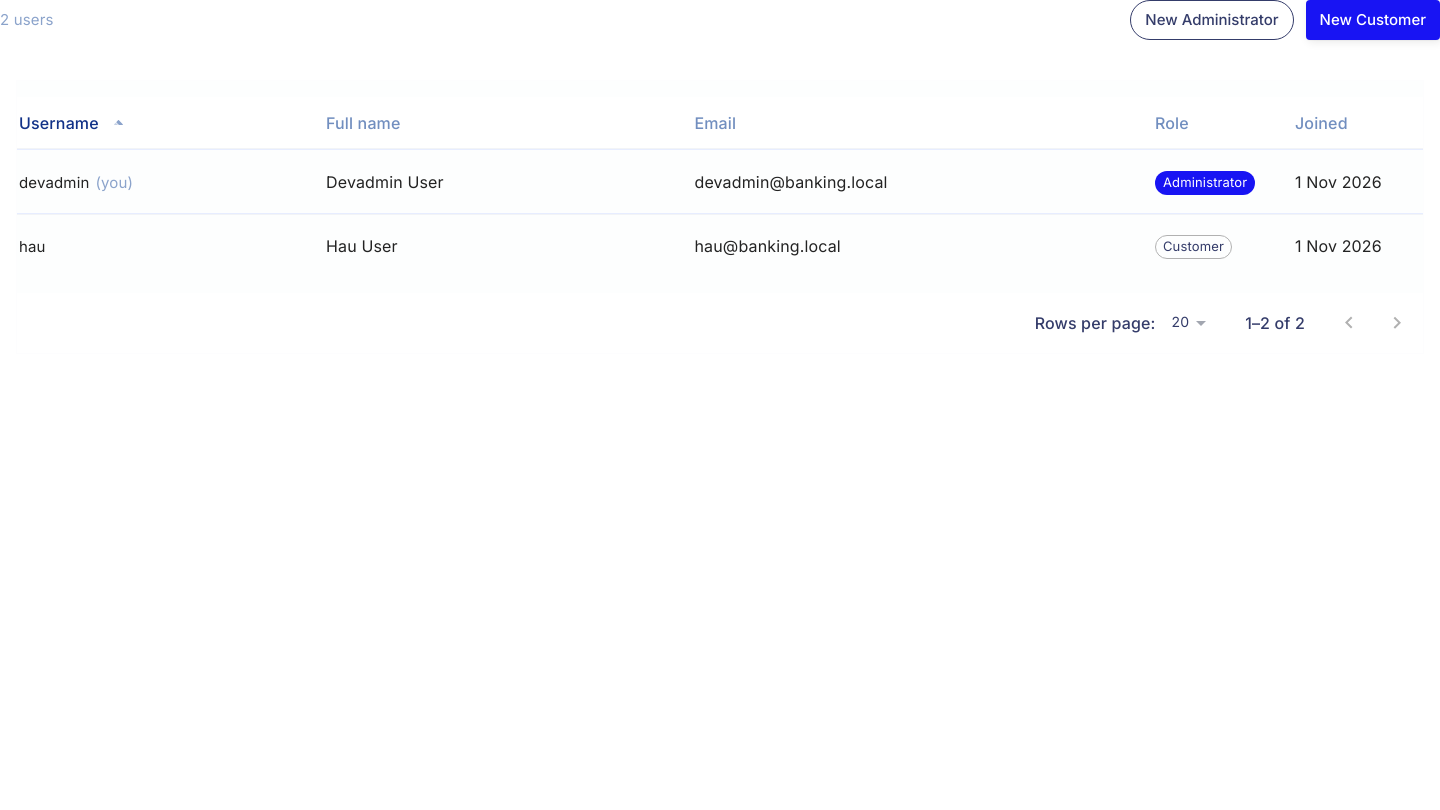
admin users page › makes a customer an administrator after confirming
Click the text "hau" at (32, 246), box left=19, top=237, right=46, bottom=256
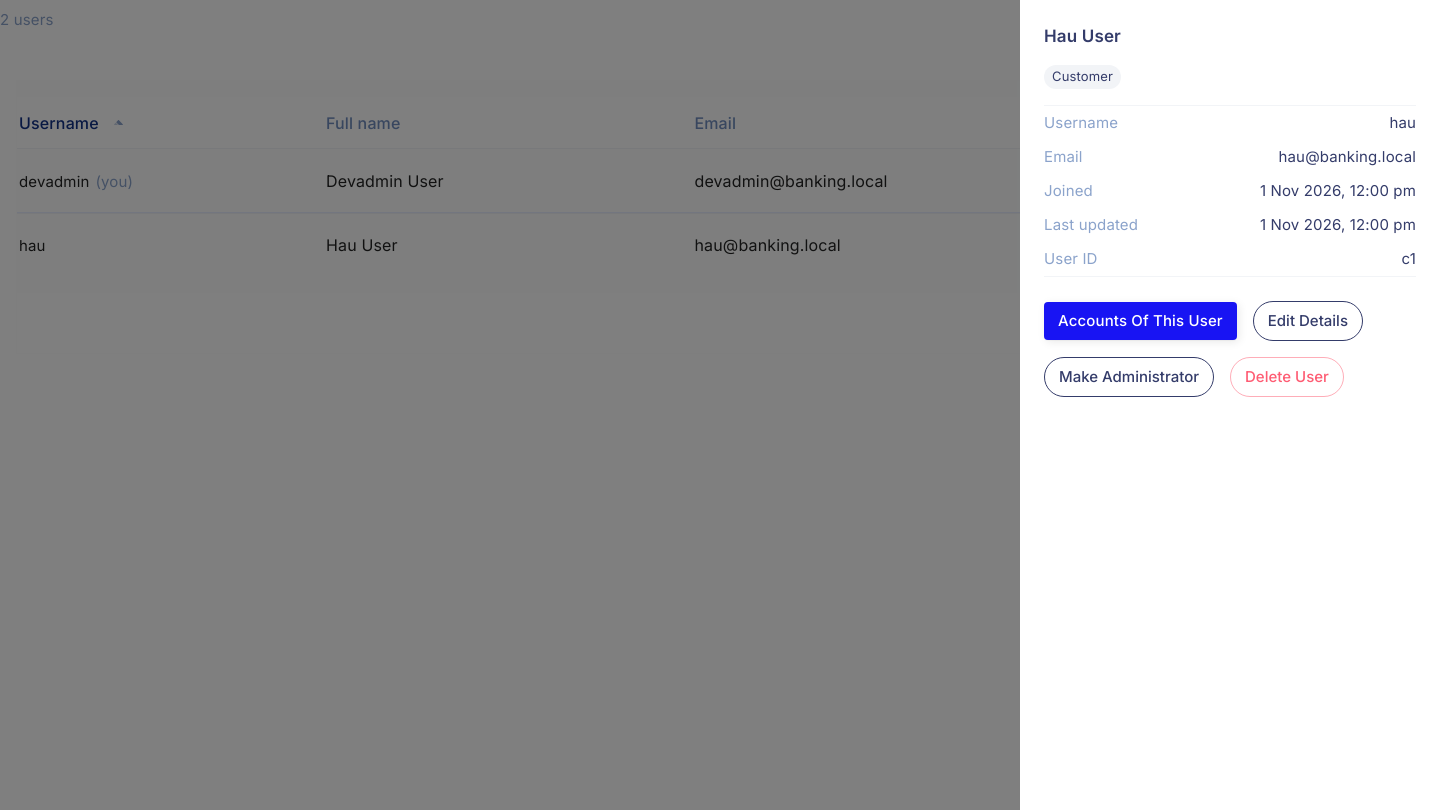
Click the button "Make administrator" at (1129, 377), box left=1044, top=357, right=1214, bottom=397
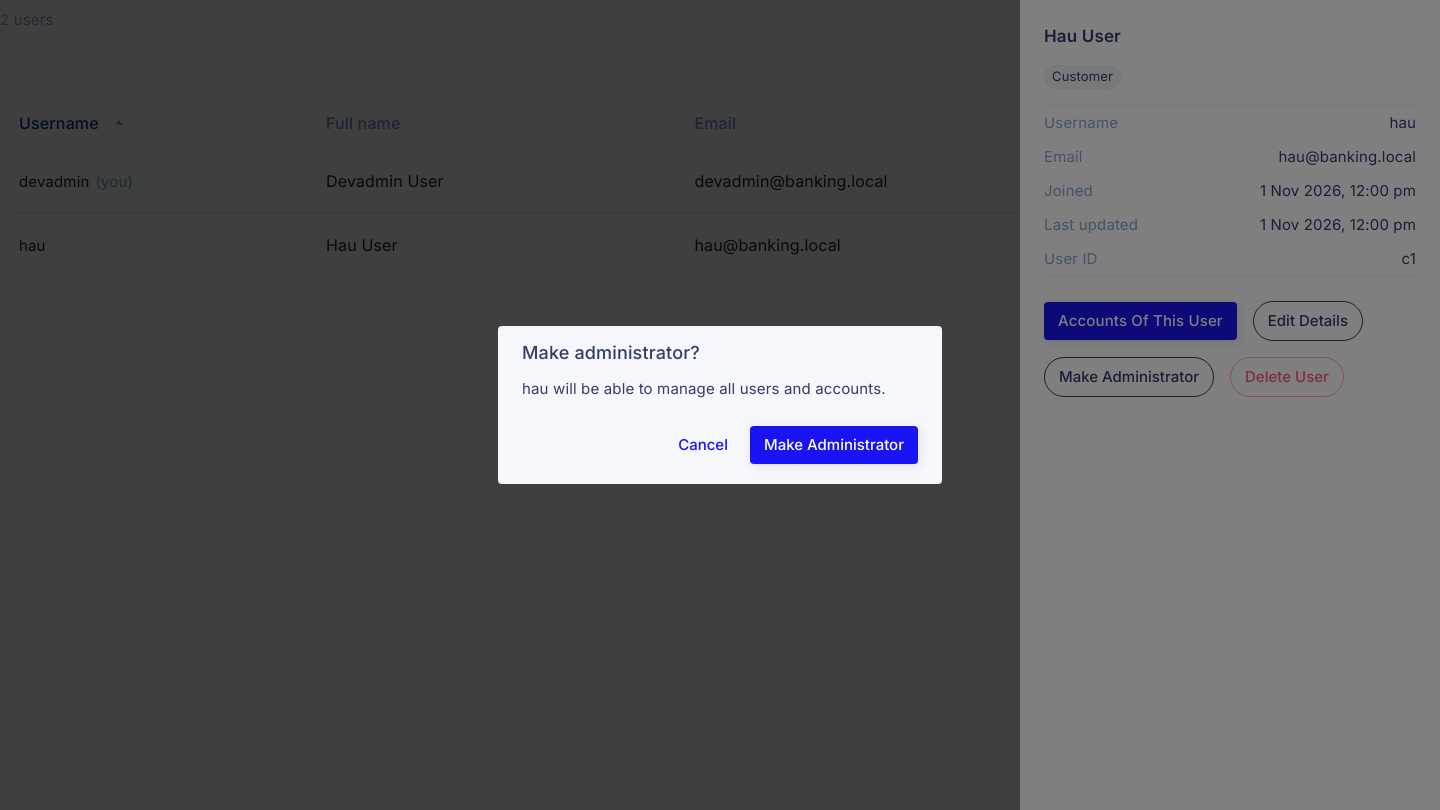
Click the button "Make administrator" at (834, 445), box left=750, top=426, right=918, bottom=464
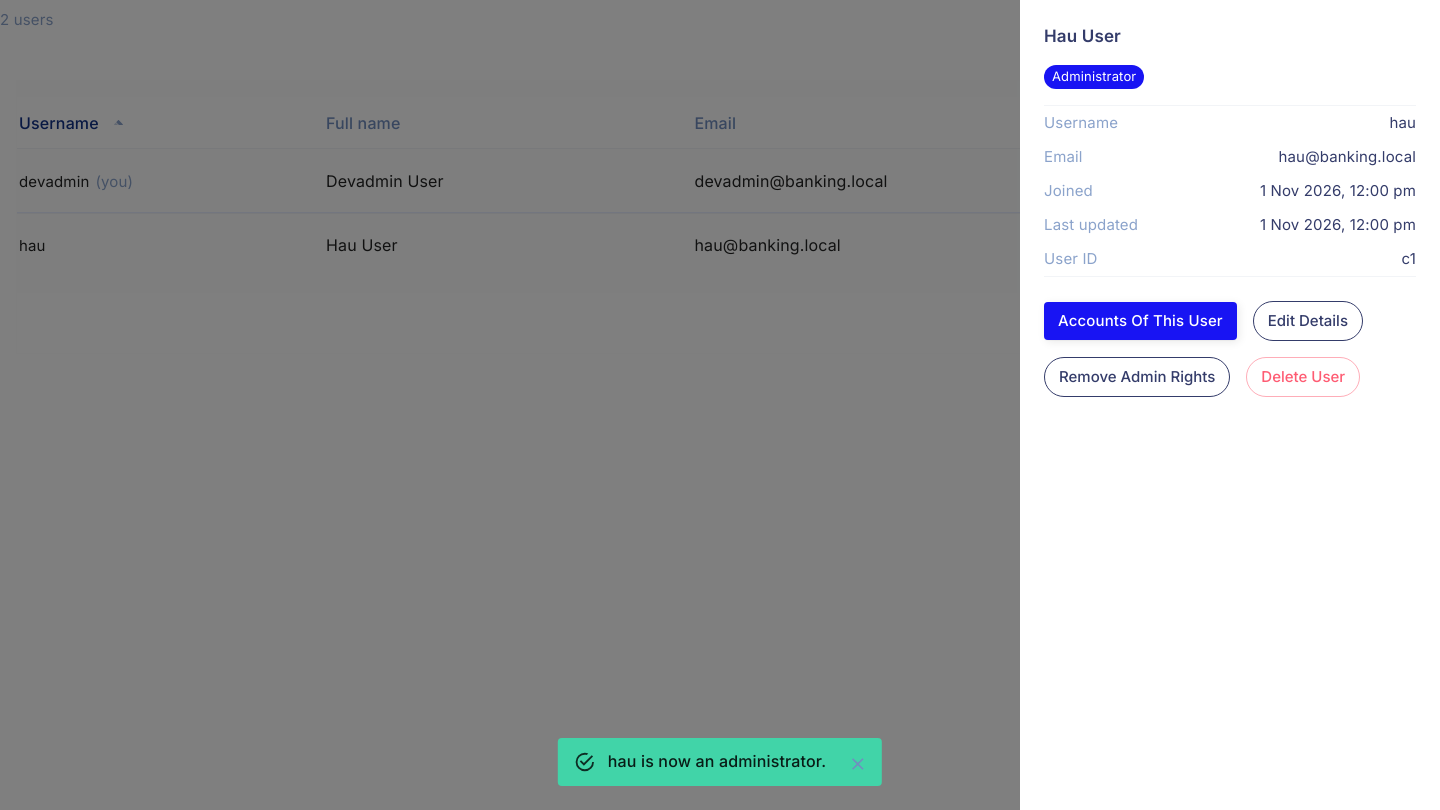
expect the text "hau is now an administrator." is shown: met, box left=608, top=751, right=826, bottom=771
expect the button "Remove admin rights" is shown: met, box left=1044, top=357, right=1230, bottom=397
